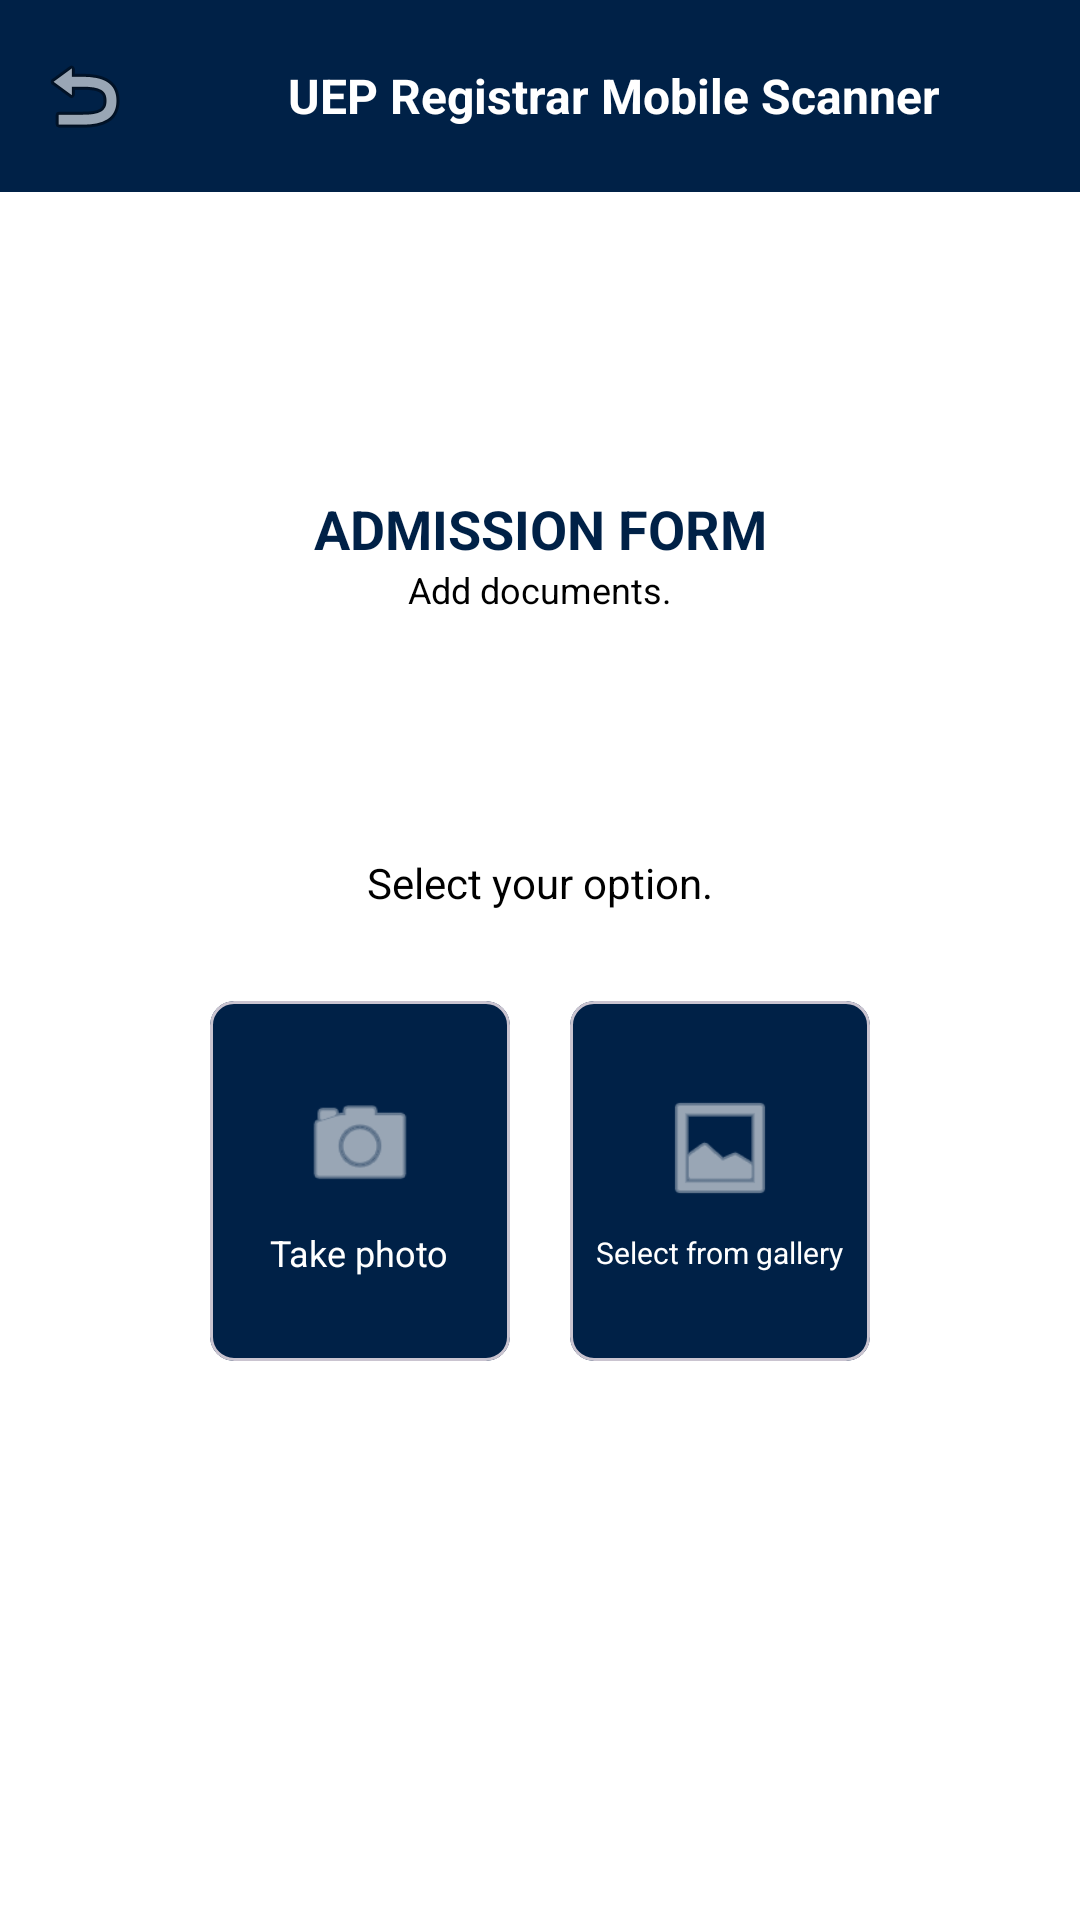

Icons on this 1080 x 1920 Android screen, each with the point to tap as (x,y):
camera: (360,1142)
